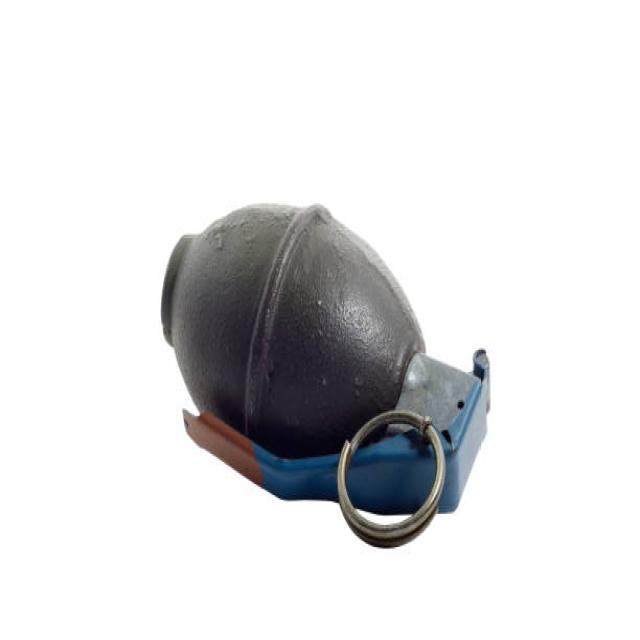grenade: (154, 196, 498, 561)
